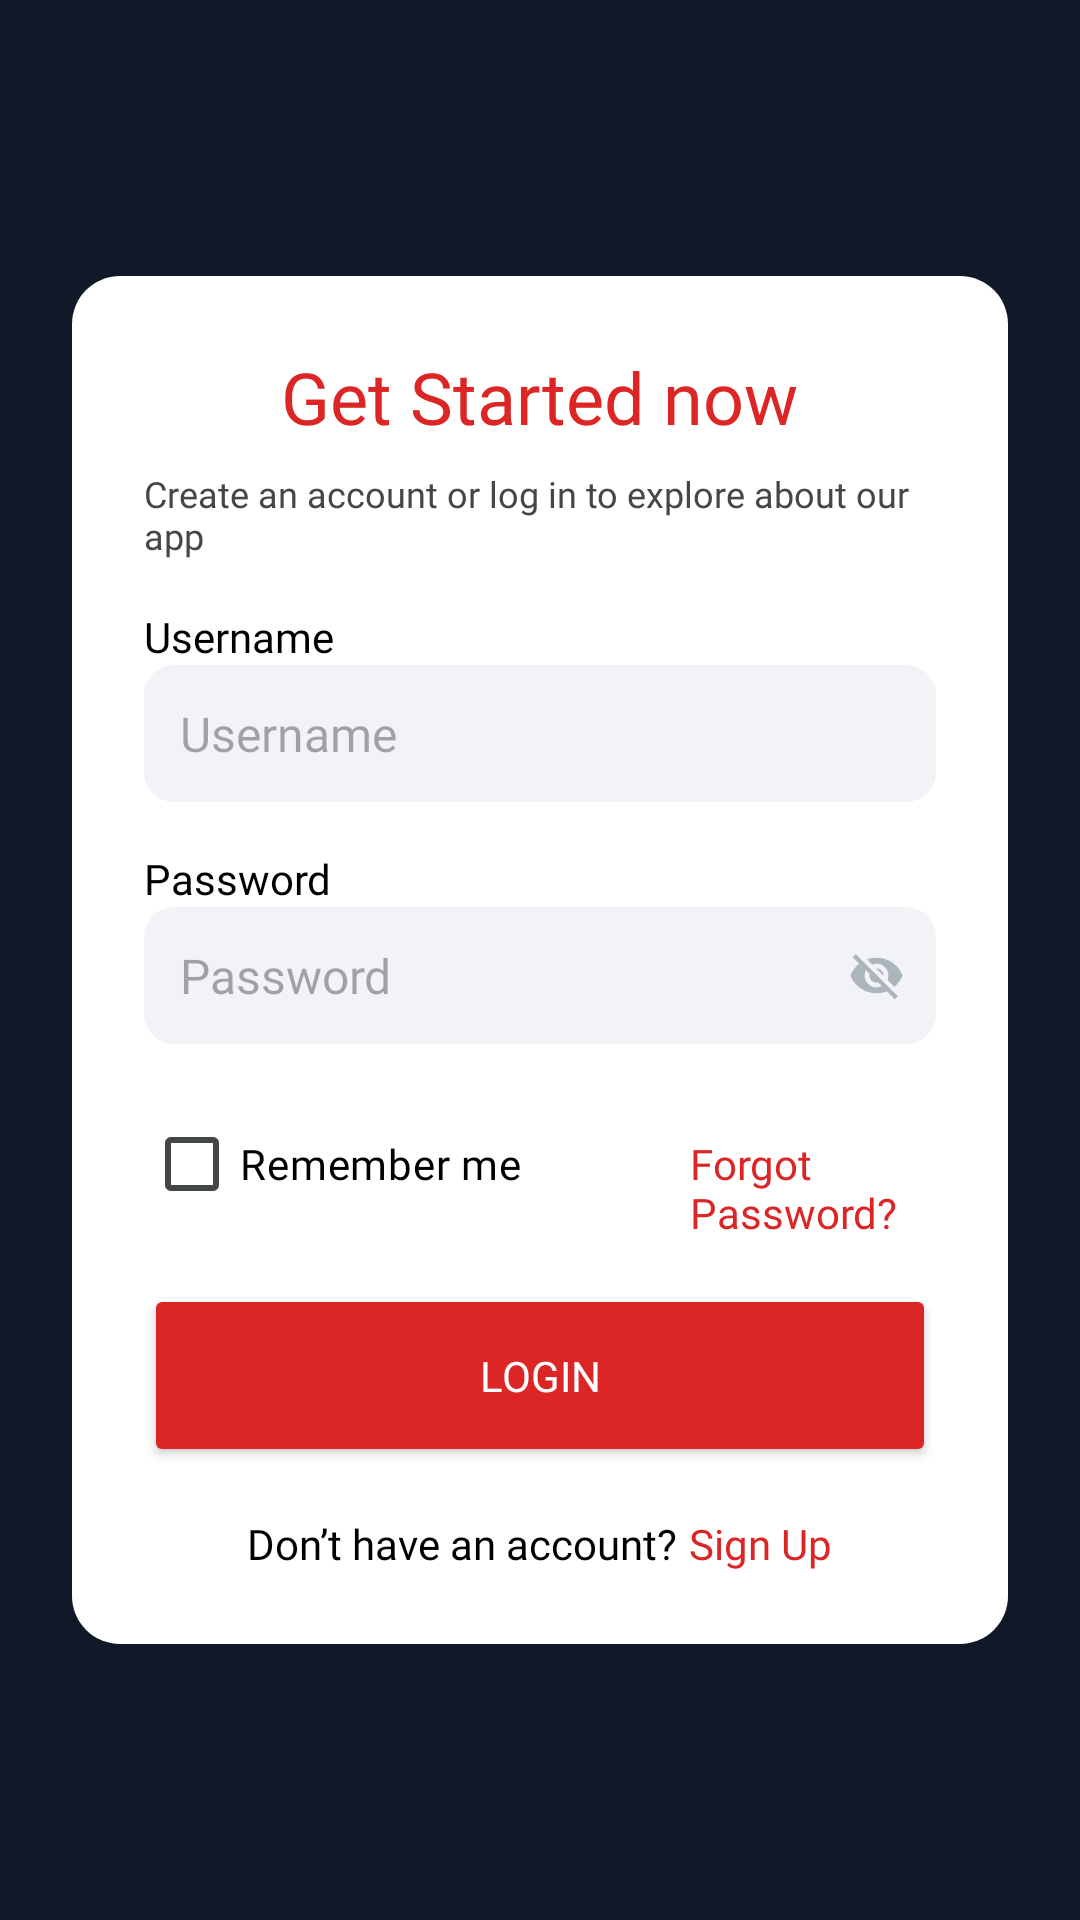

Screen size 1080px×1920px. Icon name, then its center in pixels as (x,y):
visibility off: (876,976)
